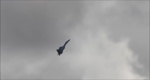maybay_muctieu: (55, 37, 71, 57)
